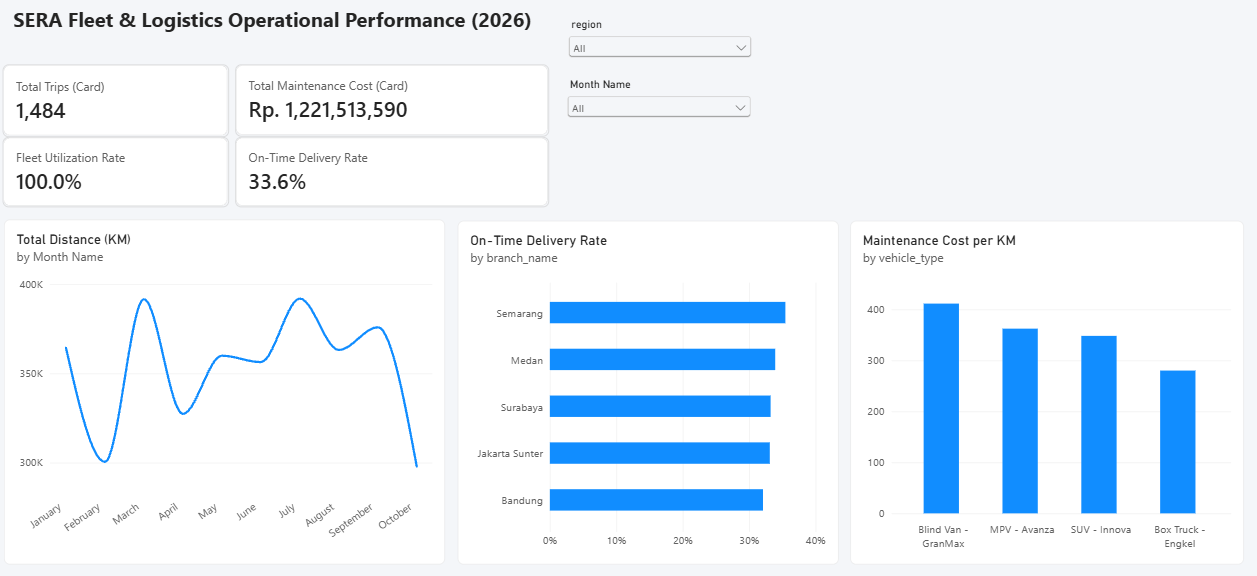

The page's visual inventory and layout, read from the dashboard file:
{"tool":"powerbi","page":{"name":"Executive Overview","canvas":[1920,1080],"ordinal":0},"visuals":[{"type":"textbox","box":[11.2,0,719.2,97.1],"z":0},{"type":"slicer","fields":{"Values":["dim_branch.region"]},"box":[761.2,35,252.9,61],"z":1000},{"type":"slicer","fields":{"Values":["Dim_Date.Month Name"]},"box":[760.5,115.7,253.5,61.2],"z":2000},{"type":"cardVisual","fields":{"Data":["_Measures.Total Trips (Card)"]},"box":[11.7,96.7,301.7,96.7],"z":3000},{"type":"cardVisual","fields":{"Data":["_Measures.Fleet Utilization Rate"]},"box":[12.1,192.9,301.4,93.6],"z":4000},{"type":"cardVisual","fields":{"Data":["_Measures.On-Time Delivery Rate"]},"box":[321.4,192.9,418.6,93.6],"z":5000},{"type":"cardVisual","fields":{"Data":["_Measures.Total Maintenance Cost (Card)"]},"box":[321.4,97.1,418.6,95.7],"z":6000},{"type":"lineChart","fields":{"Category":["Dim_Date.Month Name"],"Y":["_Measures.Total Distance (KM)"]},"box":[13.3,303.3,588.3,460],"z":7000},{"type":"clusteredBarChart","fields":{"Category":["dim_branch.branch_name"],"Y":["_Measures.On-Time Delivery Rate"]},"box":[618.3,305,508.3,458.3],"z":8000},{"type":"lineClusteredColumnComboChart","fields":{"Category":["dim_vehicle.vehicle_type"],"Y":["_Measures.Maintenance Cost per KM"]},"box":[1141.7,305,525,458.3],"z":9000}]}

Visuals, with their boxes on the page's 1920x1080 design canvas (x1, y1, x2, y2). These are canvas units, not pixel positions in the 1257x576 screenshot, which may show the page scaled, cropped or inside an application window:
textbox: {"x1": 11, "y1": 0, "x2": 730, "y2": 97}
slicer - dim_branch.region: {"x1": 761, "y1": 35, "x2": 1014, "y2": 96}
slicer - Dim_Date.Month Name: {"x1": 760, "y1": 116, "x2": 1014, "y2": 177}
cardVisual - _Measures.Total Trips (Card): {"x1": 12, "y1": 97, "x2": 313, "y2": 193}
cardVisual - _Measures.Fleet Utilization Rate: {"x1": 12, "y1": 193, "x2": 314, "y2": 286}
cardVisual - _Measures.On-Time Delivery Rate: {"x1": 321, "y1": 193, "x2": 740, "y2": 286}
cardVisual - _Measures.Total Maintenance Cost (Card): {"x1": 321, "y1": 97, "x2": 740, "y2": 193}
lineChart - Dim_Date.Month Name x _Measures.Total Distance (KM): {"x1": 13, "y1": 303, "x2": 602, "y2": 763}
clusteredBarChart - dim_branch.branch_name x _Measures.On-Time Delivery Rate: {"x1": 618, "y1": 305, "x2": 1127, "y2": 763}
lineClusteredColumnComboChart - dim_vehicle.vehicle_type x _Measures.Maintenance Cost per KM: {"x1": 1142, "y1": 305, "x2": 1667, "y2": 763}
